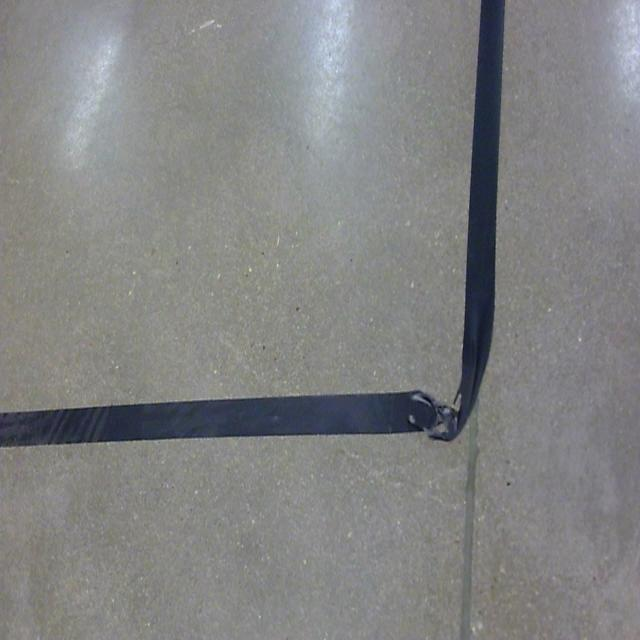tape: (0, 0, 526, 513)
